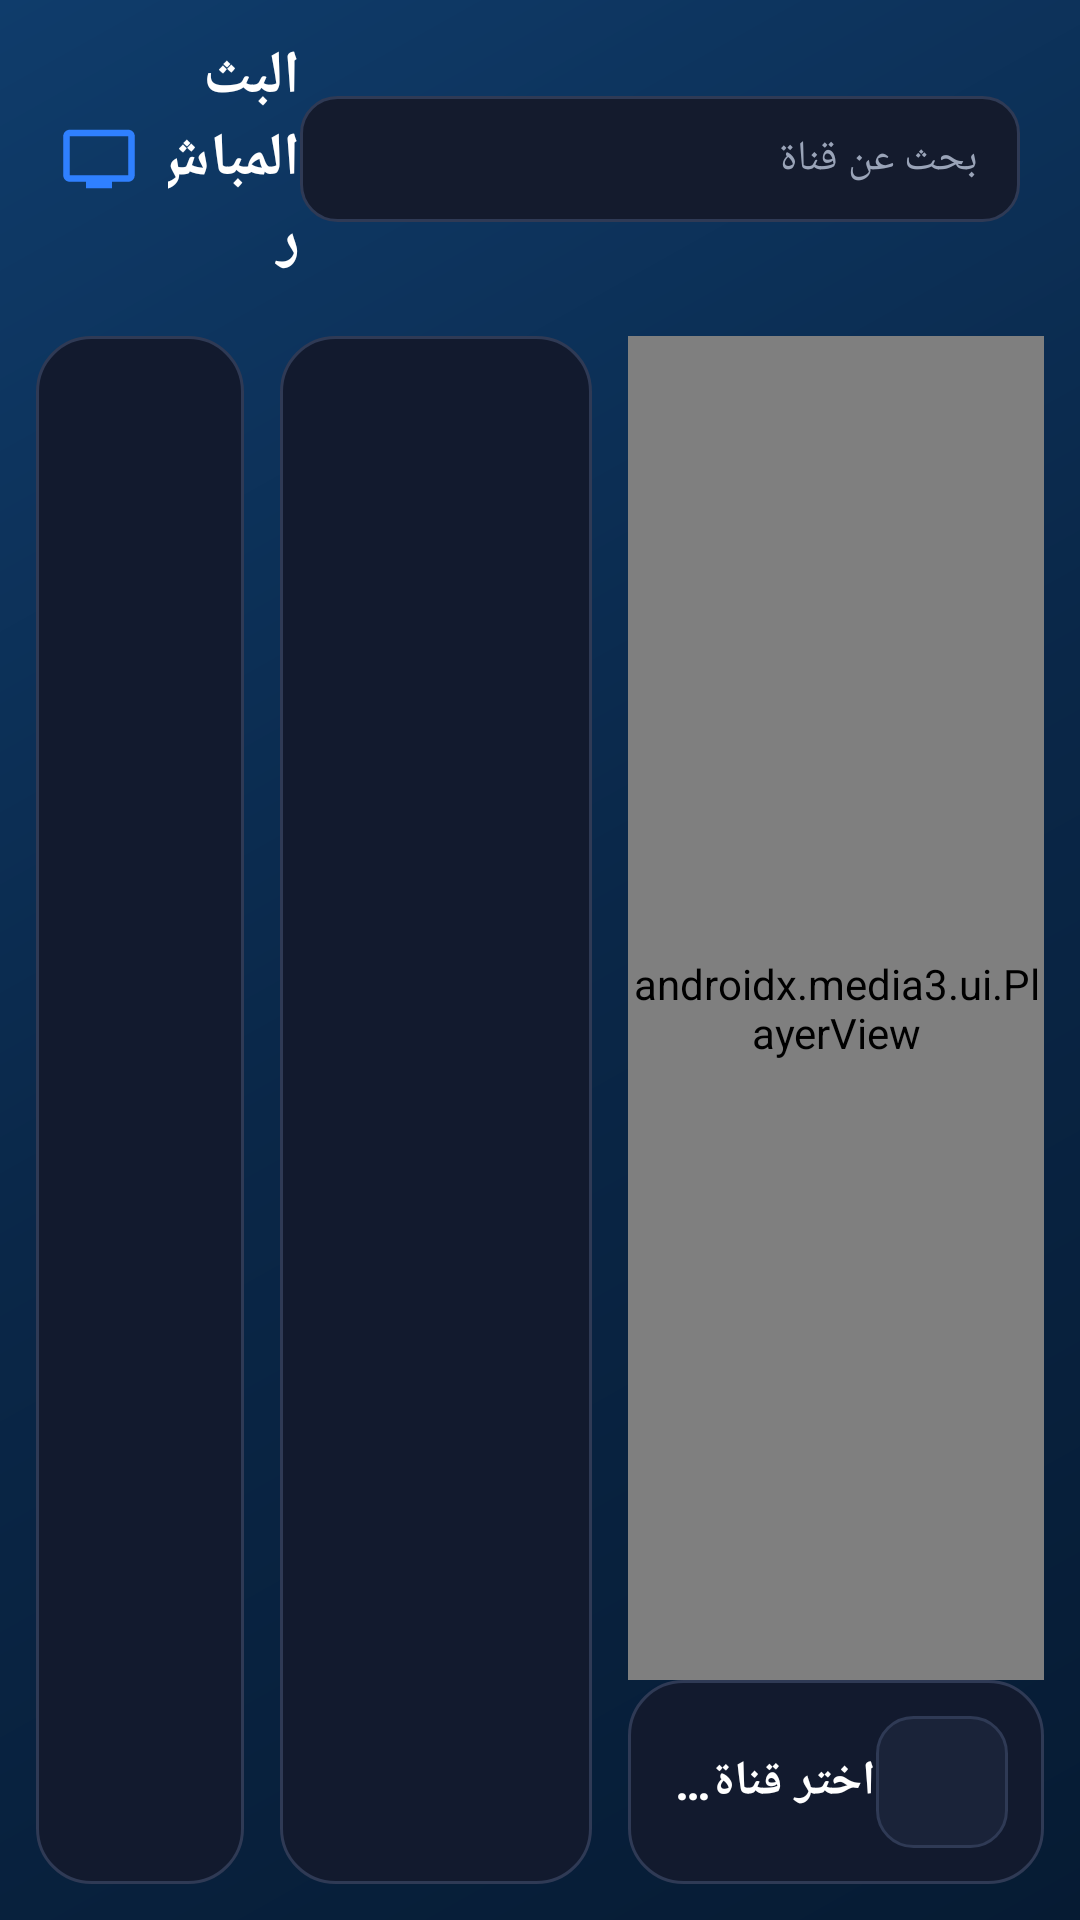

Where icons sit on this 1080px×1920px app screen, as box(x1, y1, x2, y2):
live: box(63, 129, 135, 189)
